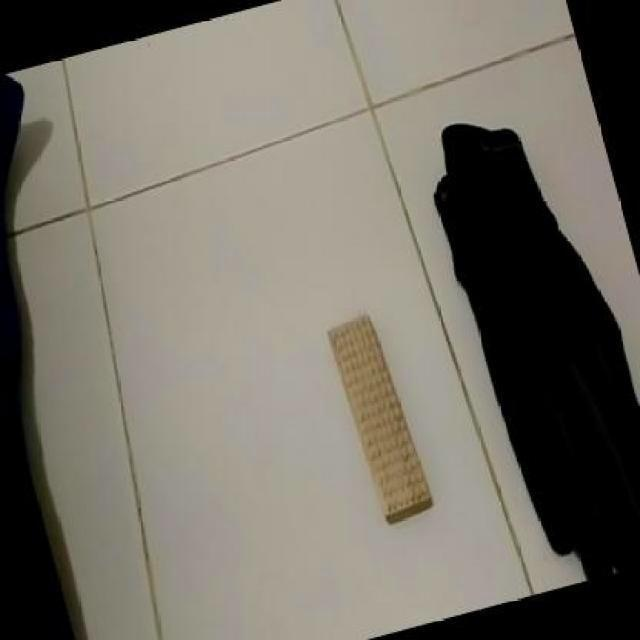Guantes: (431, 120, 639, 582)
